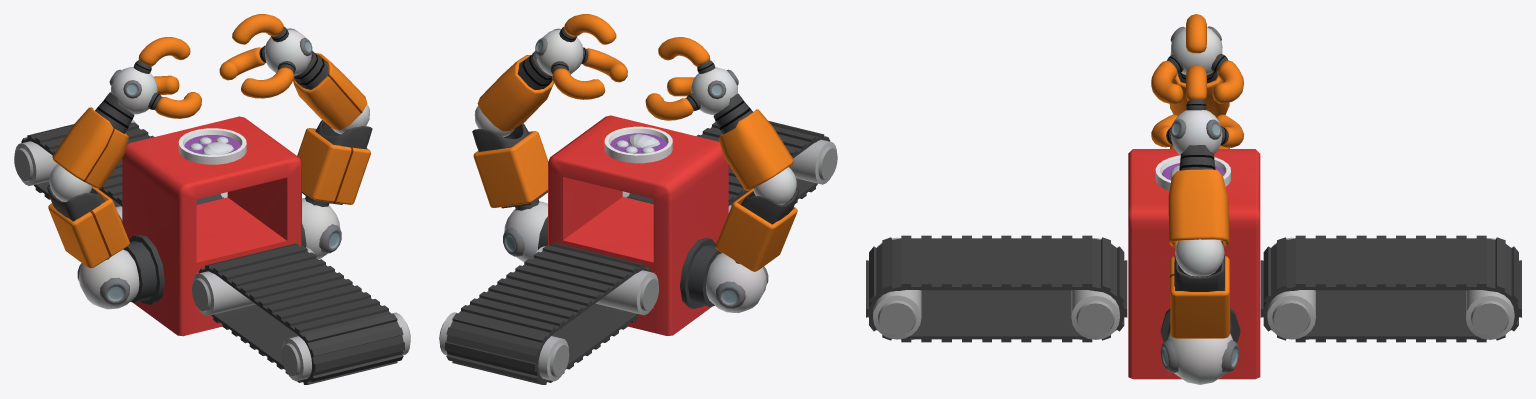
The model's file is maysxbalogau.fbx.
3 renders of one model, left to right at view 1: azimuth 30°, elevation 25°; view 2: azimuth 150°, elevation 25°; view 3: azimuth 270°, elevation 25°, orthographic. The views are drawn at different scales.
Parts seen in each view (by area): view 1: base, polySurface434, canh_tay1 (×2), khuyu_tay (×2), canh_tay (×2), Bantay (×2), Ngontay2 (×2), Ngontay1 (×2), Logo, polySurface432, De, polySurface435 (+4 smaller); view 2: base, polySurface432, canh_tay1 (×2), khuyu_tay (×2), canh_tay (×2), Bantay (×2), Ngontay2 (×2), Ngontay (×2), Logo, polySurface434, De, polySurface398 (+4 smaller); view 3: polySurface434, polySurface432, base, khuyu_tay (×2), canh_tay1, Bantay (×2), canh_tay, polySurface435, polySurface433, polySurface398, polySurface403, Ngontay (×2) (+4 smaller).
Part boxes in pixels (x1,y1,x2,y2): base: [122, 116, 301, 336]; polySurface434: [199, 243, 404, 384]; canh_tay1 (×2): [47, 120, 372, 268]; khuyu_tay (×2): [52, 51, 367, 188]; canh_tay (×2): [77, 191, 342, 309]; Bantay (×2): [109, 28, 312, 114]; Ngontay2 (×2): [133, 14, 288, 73]; Ngontay1 (×2): [148, 61, 295, 118]; Logo: [178, 128, 246, 164]; polySurface432: [21, 122, 223, 206]; De: [123, 234, 164, 304]; polySurface435: [192, 247, 317, 315]; base: [548, 115, 728, 335]; polySurface432: [445, 243, 651, 384]; canh_tay1 (×2): [472, 123, 798, 271]; khuyu_tay (×2): [477, 51, 793, 190]; canh_tay (×2): [501, 191, 768, 313]; Bantay (×2): [535, 28, 738, 114]; Ngontay2 (×2): [559, 14, 715, 73]; Ngontay (×2): [551, 61, 700, 120]; Logo: [604, 126, 672, 163]; polySurface434: [626, 121, 830, 205]; De: [680, 238, 721, 308]; polySurface398: [532, 246, 658, 315]; polySurface434: [866, 235, 1127, 342]; polySurface432: [1260, 235, 1521, 342]; base: [1128, 149, 1260, 379]; khuyu_tay (×2): [1168, 72, 1229, 247]; canh_tay1: [1170, 255, 1230, 338]; Bantay (×2): [1170, 26, 1222, 155]; canh_tay: [1160, 333, 1239, 384]; polySurface435: [1071, 238, 1119, 339]; polySurface433: [873, 237, 921, 339]; polySurface398: [1267, 237, 1315, 339]; polySurface403: [1466, 238, 1514, 339]; Ngontay (×2): [1211, 54, 1244, 147].
Size of the model in its own units: 1056 by 873 by 1715.
